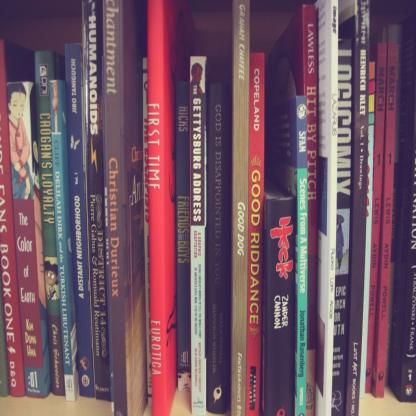book: (0, 0, 415, 415), (262, 170, 294, 416)
